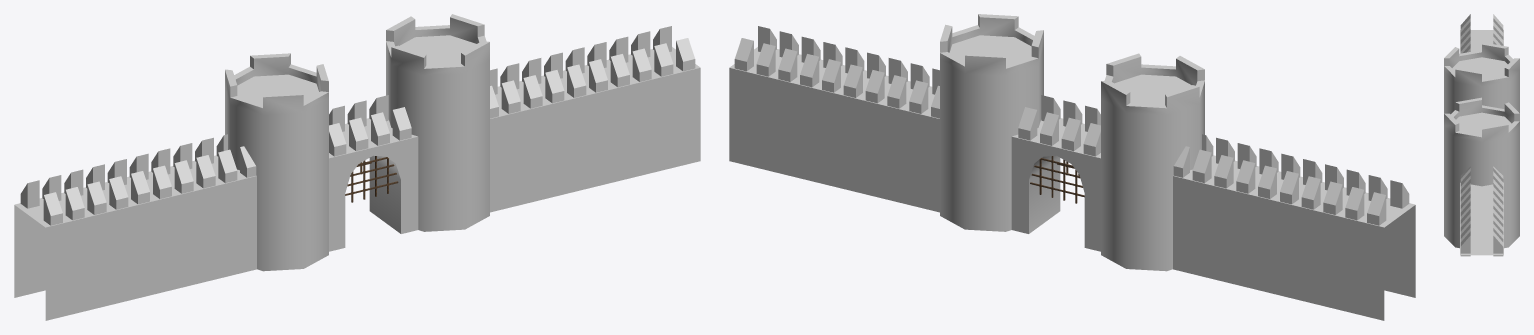
Rendered from Hradby.fbx.
3 views of the same model, side by side, from view 1: azimuth 30°, elevation 25°; view 2: azimuth 150°, elevation 25°; view 3: azimuth 270°, elevation 25° (orthographic). The views are drawn at different scales.
Parts seen in each view (by area): view 1: Wall.003; view 2: Wall.003; view 3: Wall.003.
Part boxes in pixels (box(x1,y1,x2,y2)): Wall.003: box(14, 14, 700, 320); Wall.003: box(729, 14, 1415, 320); Wall.003: box(1444, 14, 1519, 256).
Bounding box in the file's own units: 10817 × 2744 × 1540.
